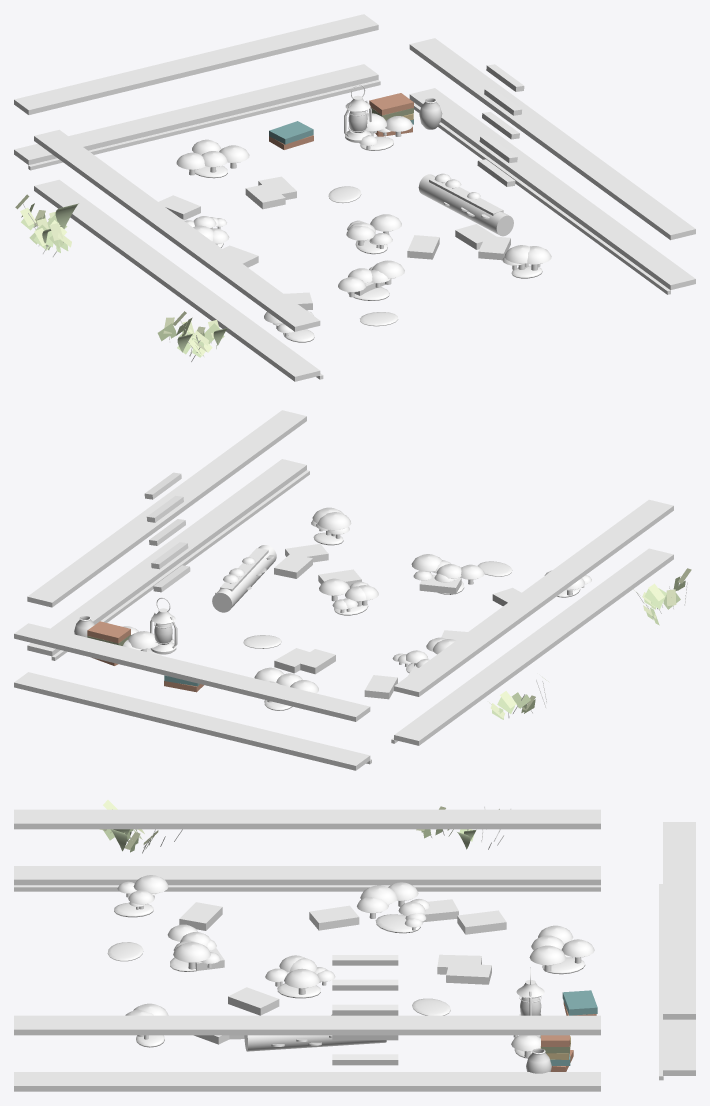
Rendered from camp_fungi.glb.
3 renders of one model, top to bottom at view 1: azimuth 30°, elevation 25°; view 2: azimuth 150°, elevation 25°; view 3: azimuth 270°, elevation 25°, orthographic. The views are drawn at different scales.
Visible parts, largest first — view 1: camp_fungi__wood, camp_fungi__book, camp_fungi__brass, camp_fungi__mushroom, camp_fungi__moss, camp_fungi__glow, camp_fungi__book_leather, camp_fungi__bark, camp_fungi__foliage_tree_leaf, camp_fungi__foliage_ivy_leaf, camp_fungi__foliage_fern, camp_fungi__pages (+1 smaller); view 2: camp_fungi__wood, camp_fungi__book, camp_fungi__mushroom, camp_fungi__glow, camp_fungi__brass, camp_fungi__moss, camp_fungi__book_leather, camp_fungi__bark, camp_fungi__foliage_ivy_leaf, camp_fungi__foliage_tree_leaf; view 3: camp_fungi__wood, camp_fungi__book, camp_fungi__mushroom, camp_fungi__brass, camp_fungi__glow, camp_fungi__moss, camp_fungi__book_leather, camp_fungi__bark, camp_fungi__earthenware, camp_fungi__pages.
Part boxes in pixels (x1=…): camp_fungi__wood: x1=14, y1=14, x2=695, y2=381; camp_fungi__book: x1=158, y1=176, x2=510, y2=310; camp_fungi__brass: x1=28, y1=80, x2=670, y2=379; camp_fungi__mushroom: x1=176, y1=113, x2=551, y2=333; camp_fungi__moss: x1=195, y1=136, x2=542, y2=342; camp_fungi__glow: x1=193, y1=173, x2=480, y2=292; camp_fungi__book_leather: x1=269, y1=93, x2=413, y2=149; camp_fungi__bark: x1=418, y1=174, x2=513, y2=236; camp_fungi__foliage_tree_leaf: x1=15, y1=194, x2=219, y2=355; camp_fungi__foliage_ivy_leaf: x1=21, y1=203, x2=224, y2=357; camp_fungi__foliage_fern: x1=42, y1=203, x2=227, y2=356; camp_fungi__pages: x1=189, y1=131, x2=540, y2=336; camp_fungi__wood: x1=14, y1=410, x2=673, y2=770; camp_fungi__book: x1=274, y1=543, x2=521, y2=699; camp_fungi__mushroom: x1=122, y1=507, x2=591, y2=693; camp_fungi__glow: x1=223, y1=554, x2=484, y2=663; camp_fungi__brass: x1=51, y1=470, x2=397, y2=764; camp_fungi__moss: x1=146, y1=532, x2=580, y2=710; camp_fungi__book_leather: x1=87, y1=621, x2=203, y2=692; camp_fungi__bark: x1=212, y1=545, x2=276, y2=612; camp_fungi__foliage_ivy_leaf: x1=492, y1=576, x2=685, y2=719; camp_fungi__foliage_tree_leaf: x1=489, y1=568, x2=691, y2=718; camp_fungi__wood: x1=14, y1=809, x2=695, y2=1091; camp_fungi__book: x1=179, y1=899, x2=506, y2=1044; camp_fungi__mushroom: x1=117, y1=875, x2=594, y2=1051; camp_fungi__brass: x1=14, y1=884, x2=663, y2=1080; camp_fungi__glow: x1=167, y1=885, x2=426, y2=1015; camp_fungi__moss: x1=107, y1=902, x2=585, y2=1058; camp_fungi__book_leather: x1=540, y1=990, x2=597, y2=1071; camp_fungi__bark: x1=244, y1=1035, x2=386, y2=1051; camp_fungi__earthenware: x1=526, y1=1048, x2=551, y2=1073; camp_fungi__pages: x1=126, y1=893, x2=581, y2=1057.
Size of the model in its own units: 7.3 by 1.68 by 8.25.
